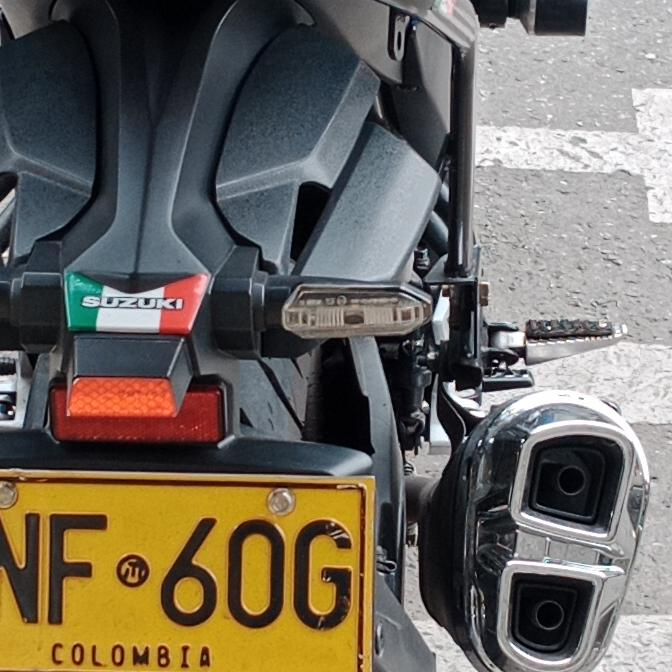plates: (0, 467, 383, 672)
